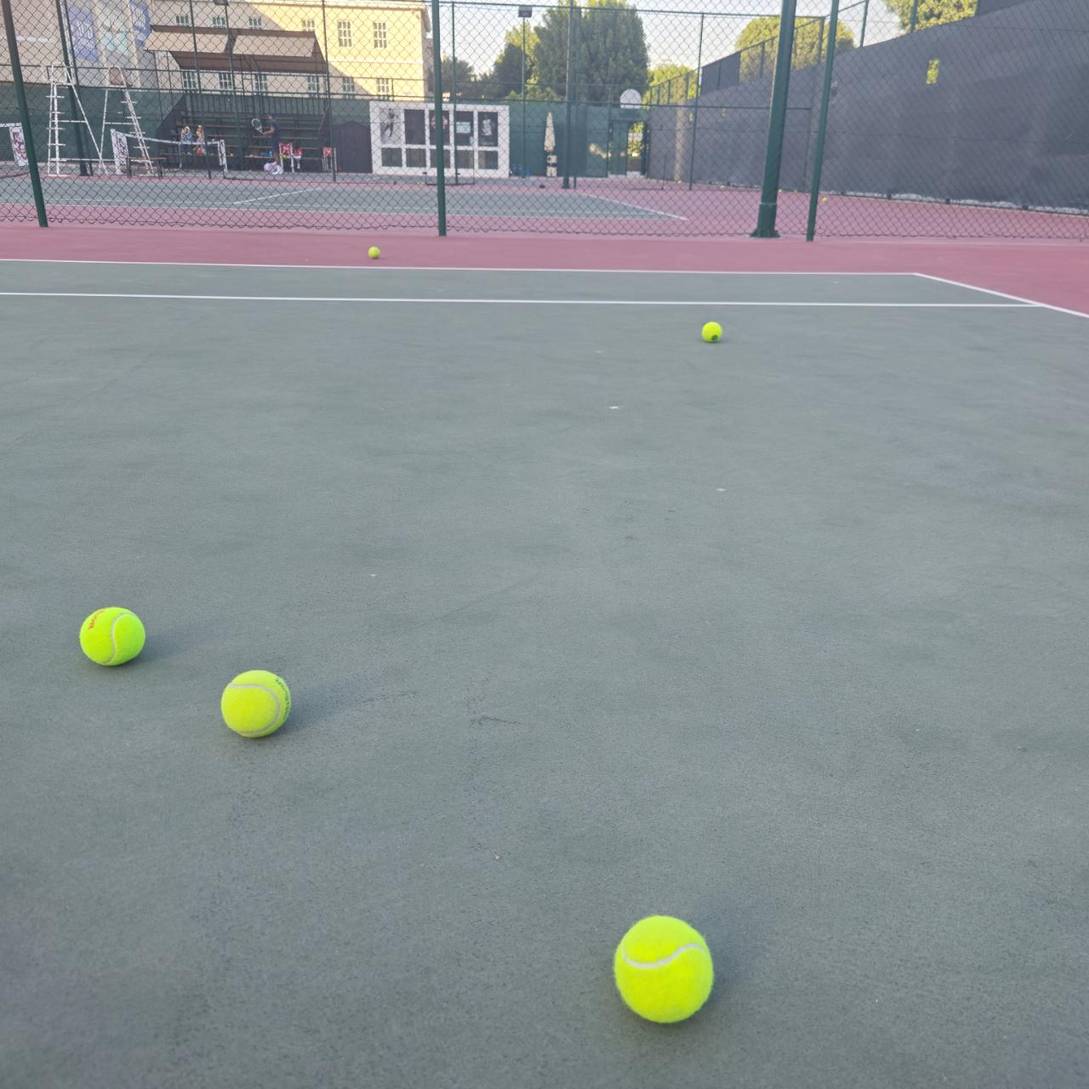tennis-ball: (610, 911, 716, 1024), (218, 666, 292, 738), (77, 603, 146, 667), (702, 322, 723, 343), (368, 247, 381, 259)
